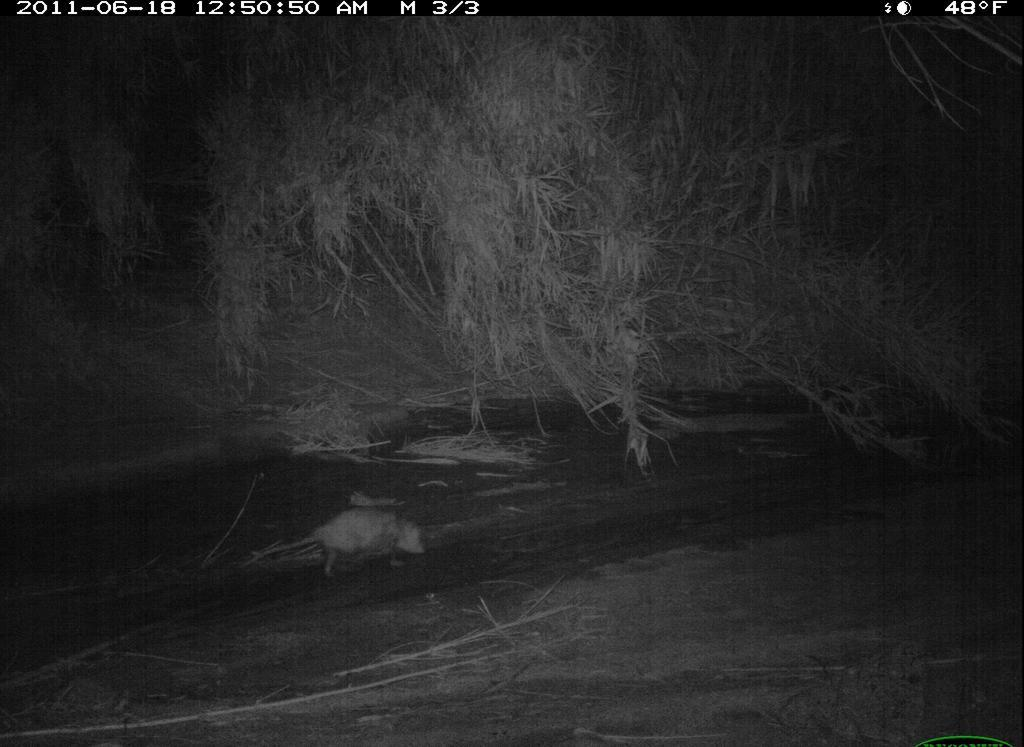opossum: (212, 500, 446, 585)
